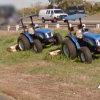Tractor: (18, 8, 100, 69)
